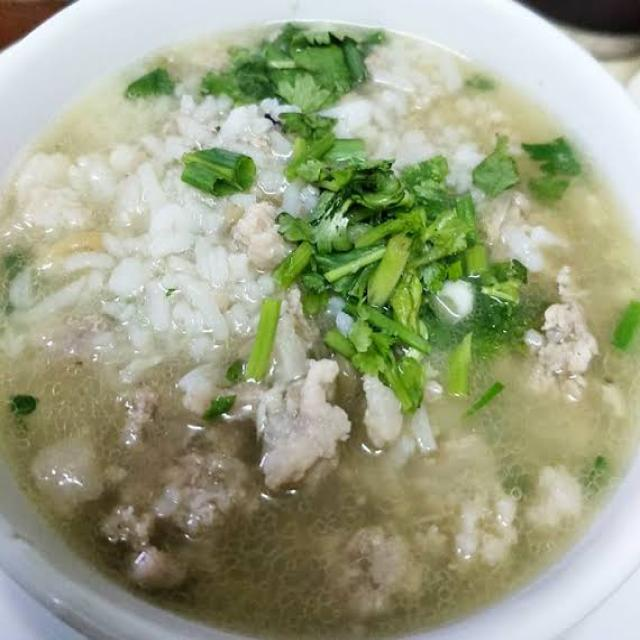carb: (44, 134, 276, 362)
meat: (80, 418, 252, 570), (532, 281, 612, 414)
rice porridge: (17, 82, 625, 611)
vegetable: (284, 132, 468, 357), (233, 6, 340, 125)
